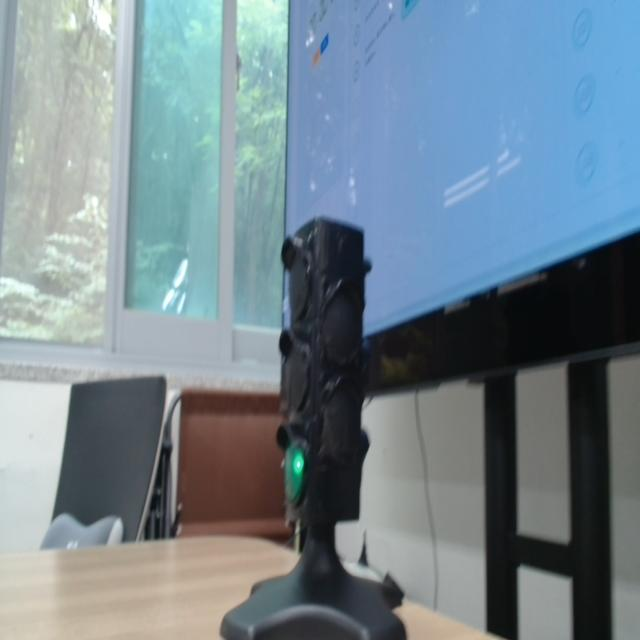green_light: (285, 447, 305, 504)
